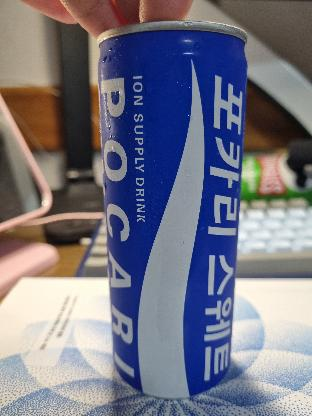Can: (78, 25, 266, 416)
